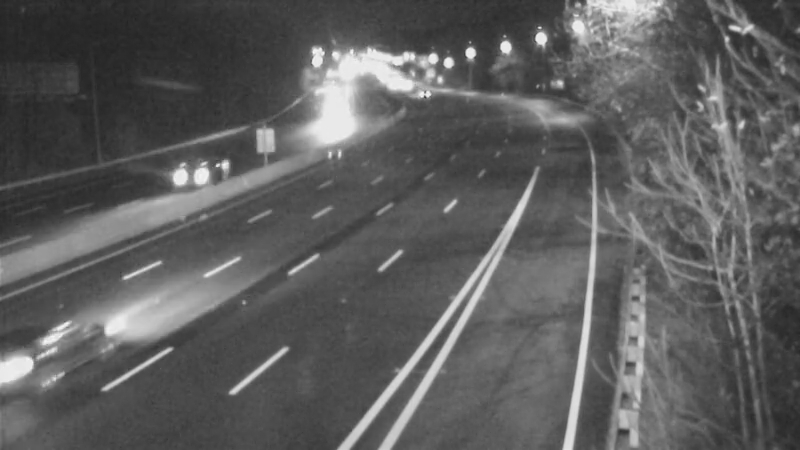vehicle: (6, 293, 116, 403), (153, 139, 233, 219), (394, 70, 444, 120), (313, 103, 363, 153)
